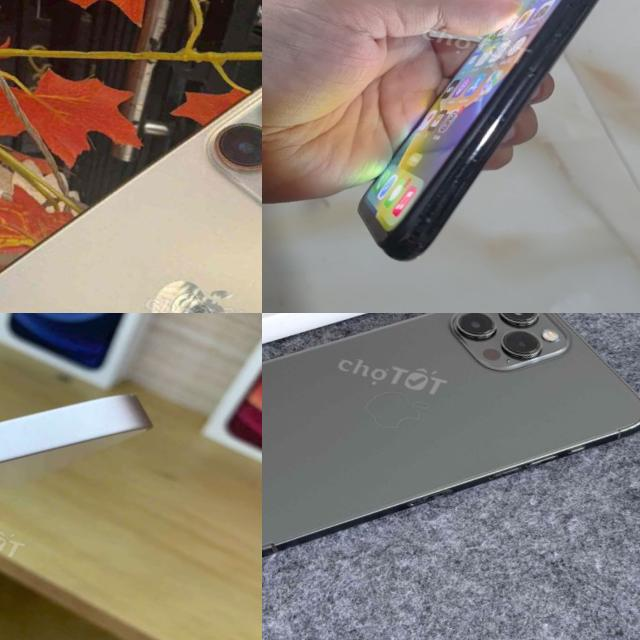gen_12_13: (262, 313, 640, 640), (0, 0, 262, 313), (0, 313, 164, 598)
gen_x_xs: (357, 0, 598, 259)
scratch: (407, 179, 467, 247), (442, 138, 492, 192), (538, 18, 578, 62), (514, 56, 557, 95)
